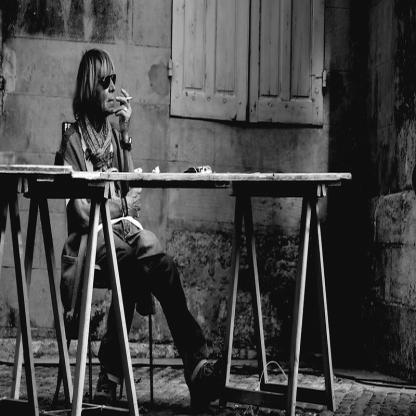smoking: (123, 97, 133, 100)
